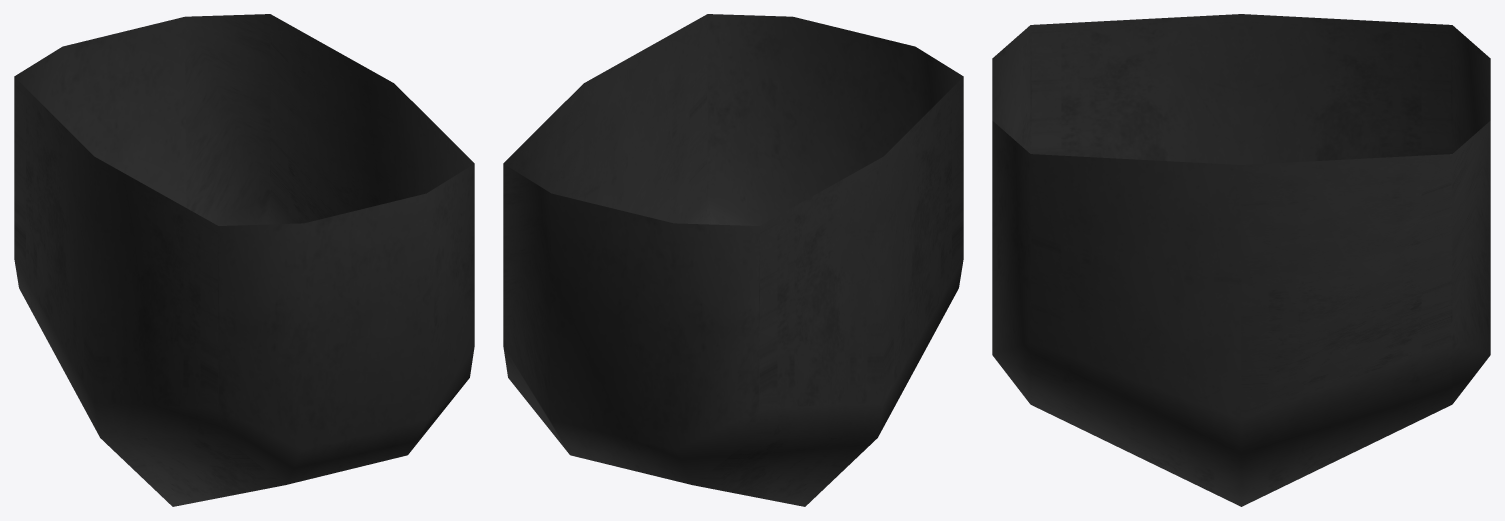
The model's file is ChainMount.fbx.
3 views of the same model, side by side, from view 1: azimuth 30°, elevation 25°; view 2: azimuth 150°, elevation 25°; view 3: azimuth 270°, elevation 25° (orthographic). The views are drawn at different scales.
Parts seen in each view (by area): view 1: ChainHold; view 2: ChainHold; view 3: ChainHold.
Part boxes in pixels (bbox=[...]): ChainHold: bbox=[14, 14, 474, 506]; ChainHold: bbox=[503, 14, 963, 506]; ChainHold: bbox=[992, 14, 1490, 506].
Size of the model in its own units: 34.32 by 40.41 by 47.88.
